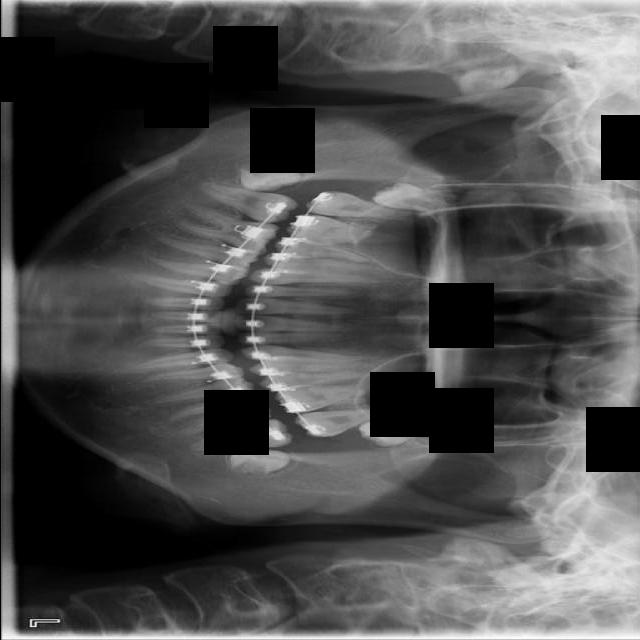3M ESPE Implant: (371, 178, 444, 216)
73: (87, 580, 101, 592)
BioHorizons Implant: (291, 400, 397, 441)
BioLife Implant: (355, 413, 430, 449)
Biomet 3i Implant: (227, 443, 290, 480)
Blue Sky Bio Implant: (190, 418, 291, 451)
Caries: (305, 188, 414, 222)
Implant: (197, 181, 301, 229)
Keystone Dental Implant: (235, 159, 301, 193)
